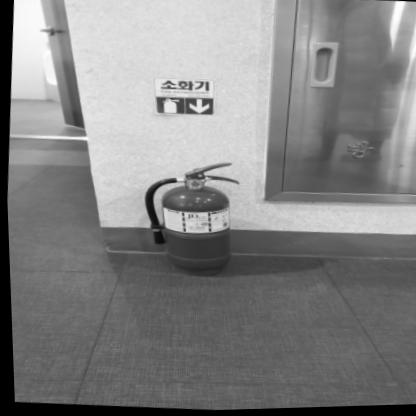FE: (137, 160, 242, 282)
